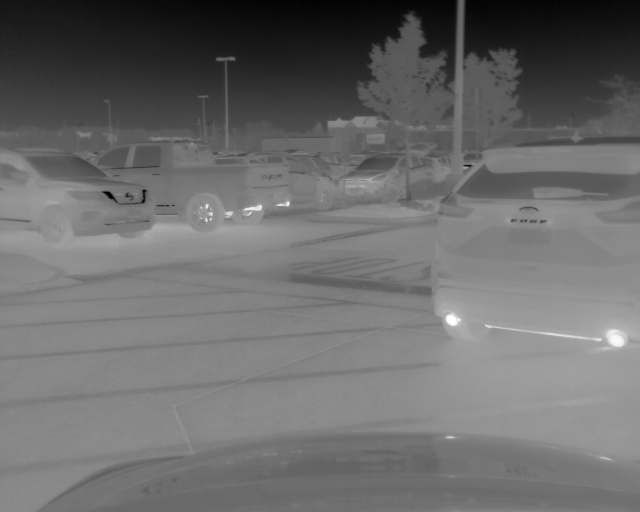car: (434, 135, 640, 349), (90, 142, 291, 231), (1, 147, 157, 241), (214, 153, 338, 211), (341, 151, 452, 208)
